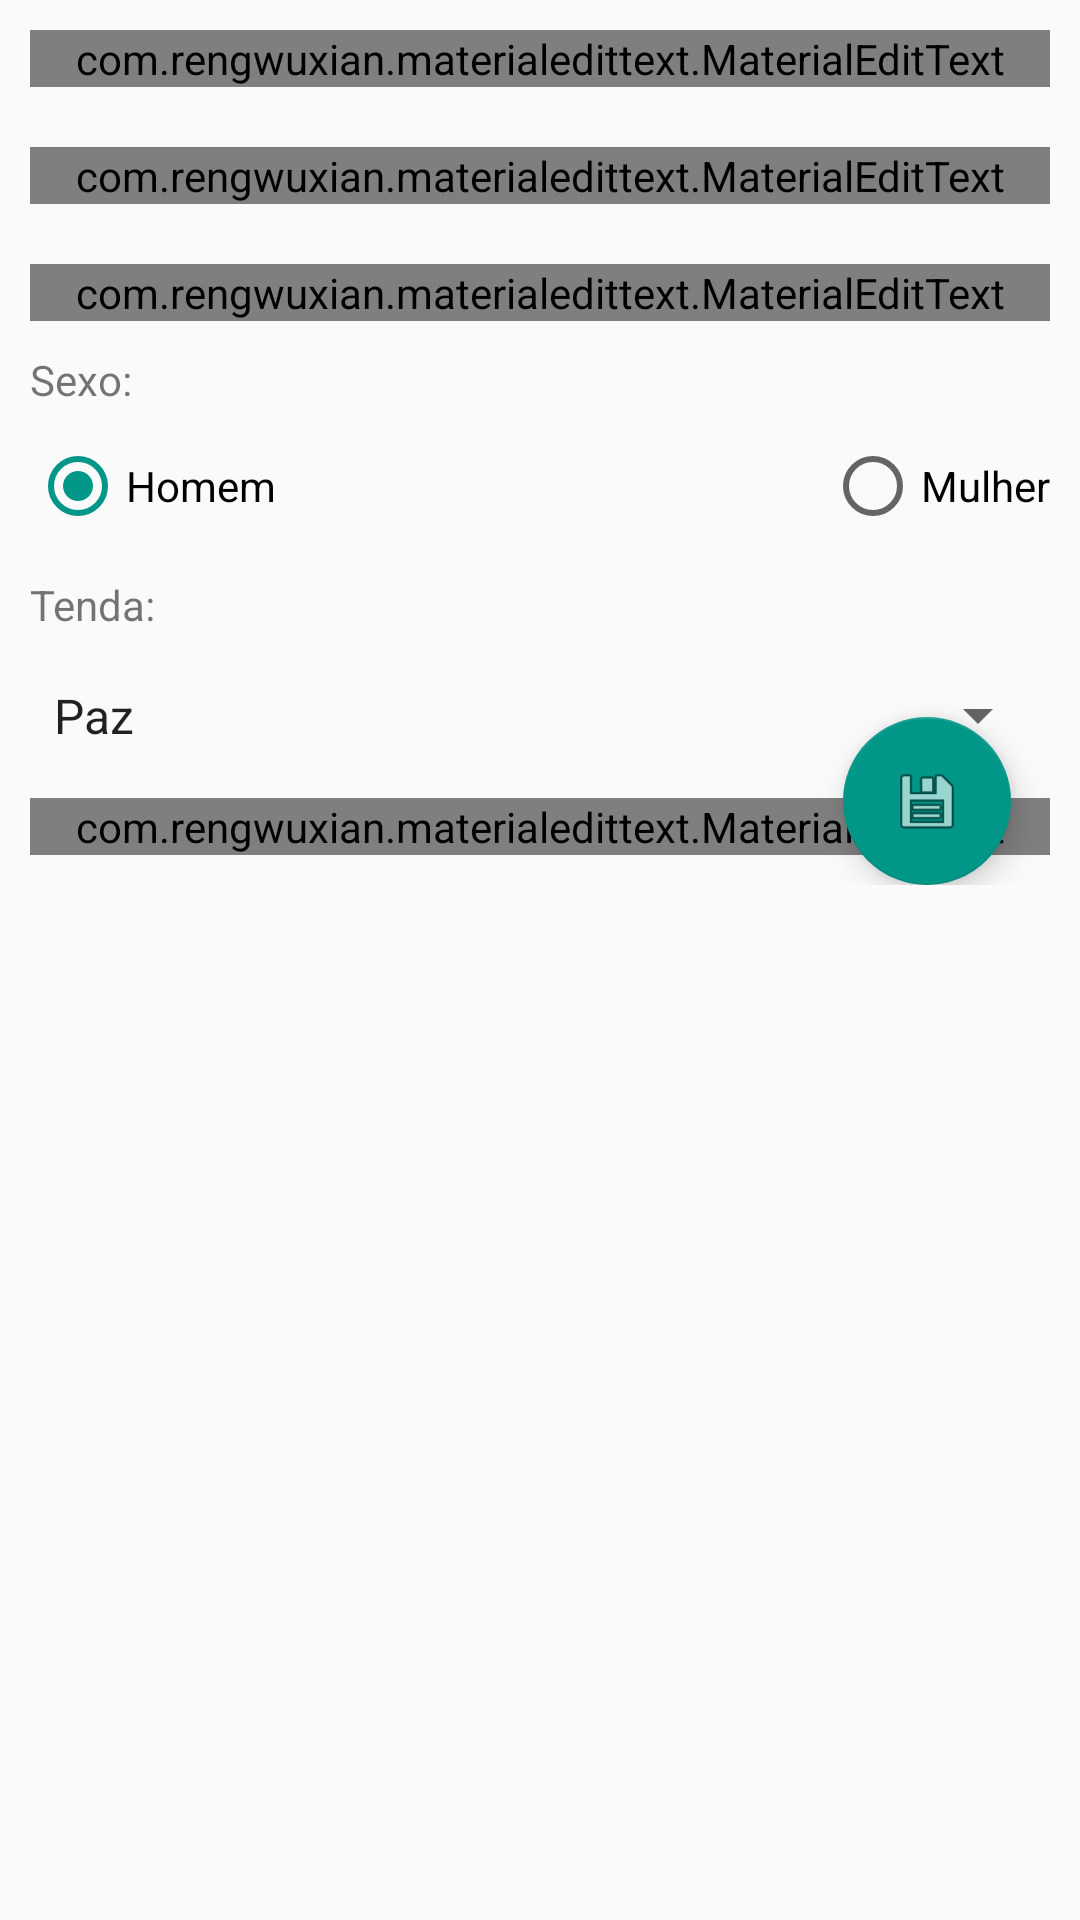

Icon bounding boxes for this 1080×1920 phone screenshot, format [x1, y1, x2, y2]:
save: [843, 717, 1011, 885]
